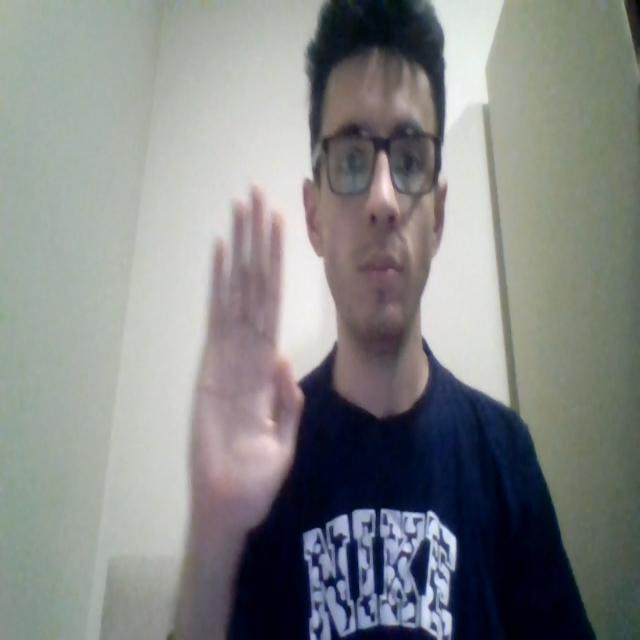hello: (180, 180, 303, 535)
